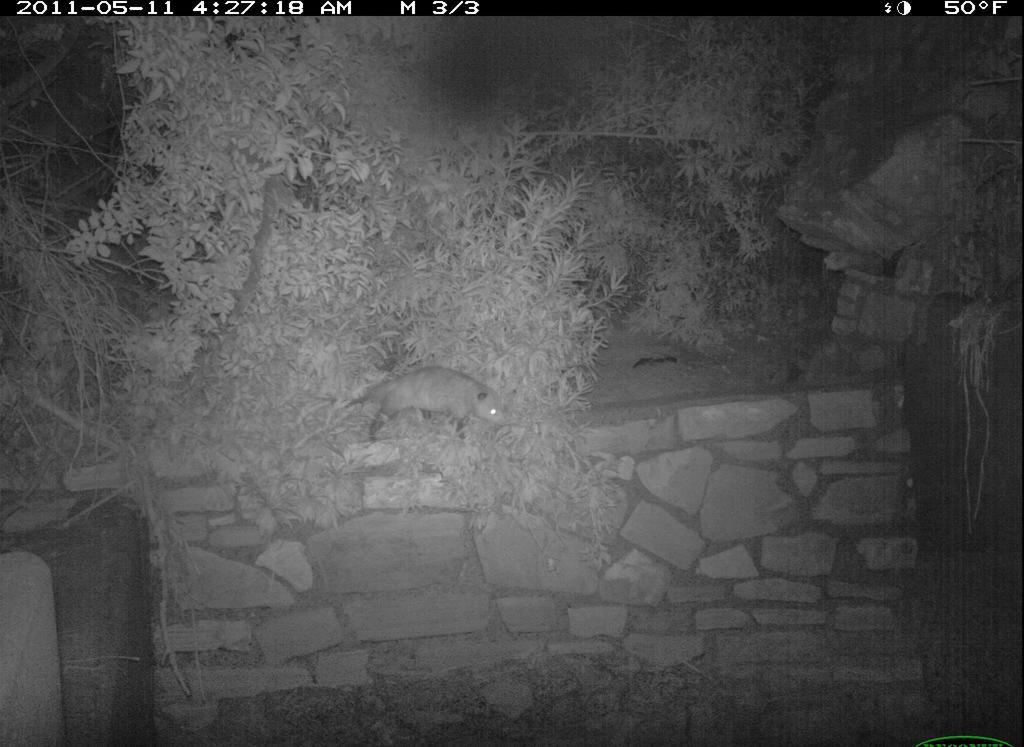opossum: (318, 367, 541, 464)
